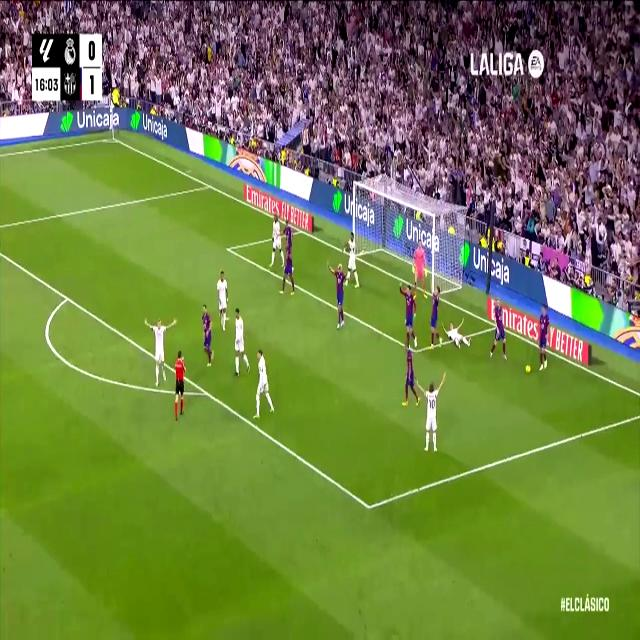bigarea_bottom_inner: (362, 490, 376, 522)
bigarea_top_outter: (205, 176, 213, 192)
bottom_arc_area_intersection: (200, 382, 211, 401)
corner: (108, 132, 118, 144)
smallarea_top_inner: (223, 239, 233, 258)
top_arc_area_intersection: (62, 286, 73, 308)
